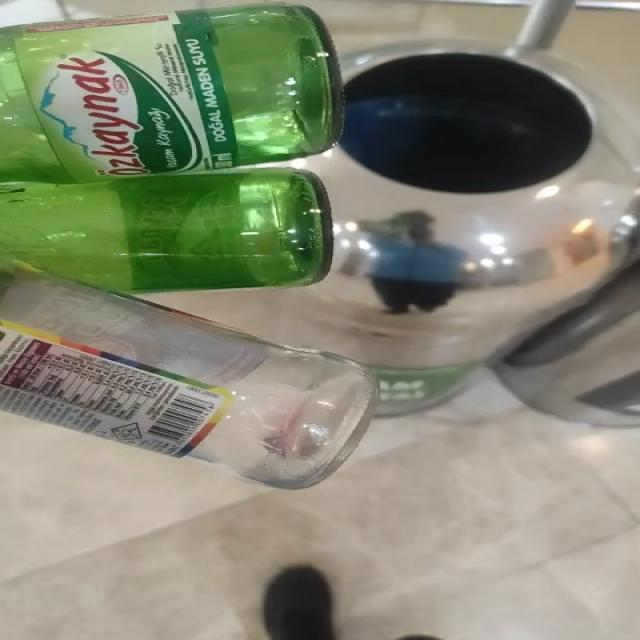glass: (0, 4, 376, 489)
